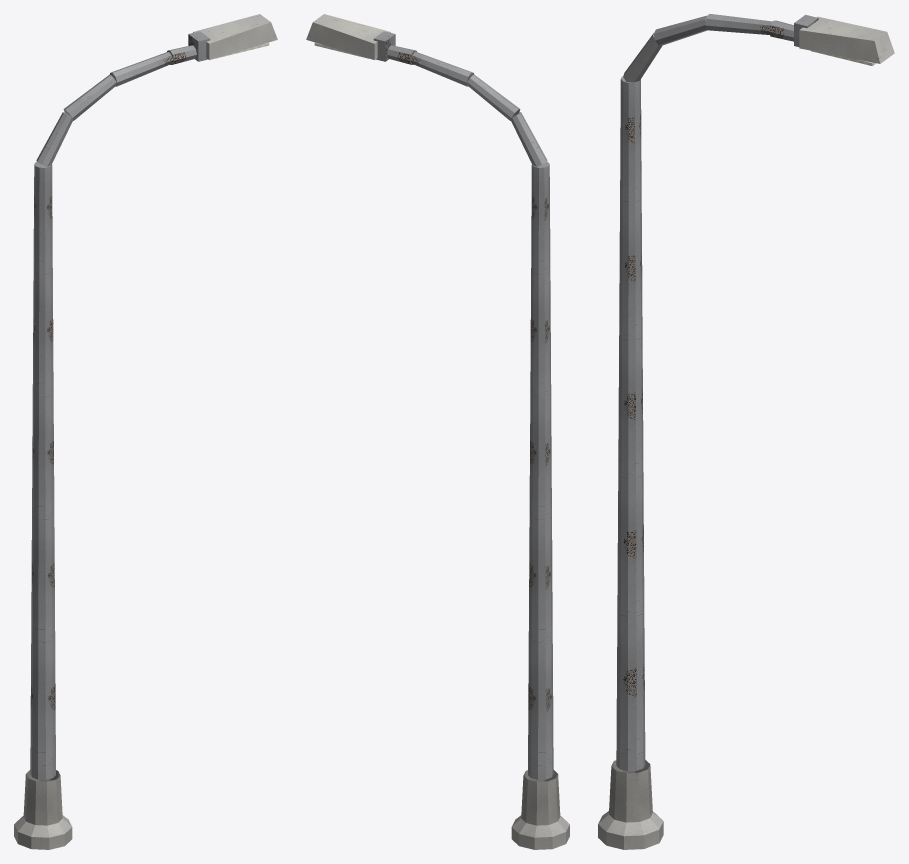
Rendered from streetlight.glb.
3 renders of one model, left to right at view 1: azimuth 30°, elevation 25°; view 2: azimuth 150°, elevation 25°; view 3: azimuth 330°, elevation 25°, orthographic. The views are drawn at different scales.
Parts seen in each view (by area): view 1: NC_streetlight; view 2: NC_streetlight; view 3: NC_streetlight.
Part boxes in pixels (x1,y1,x2,y2): NC_streetlight: (14, 14, 277, 849); NC_streetlight: (306, 14, 569, 849); NC_streetlight: (598, 14, 894, 849).
Size of the model in its own units: 2.6 by 7.5 by 0.4945.
Materials: 4 (4 with a texture image).
